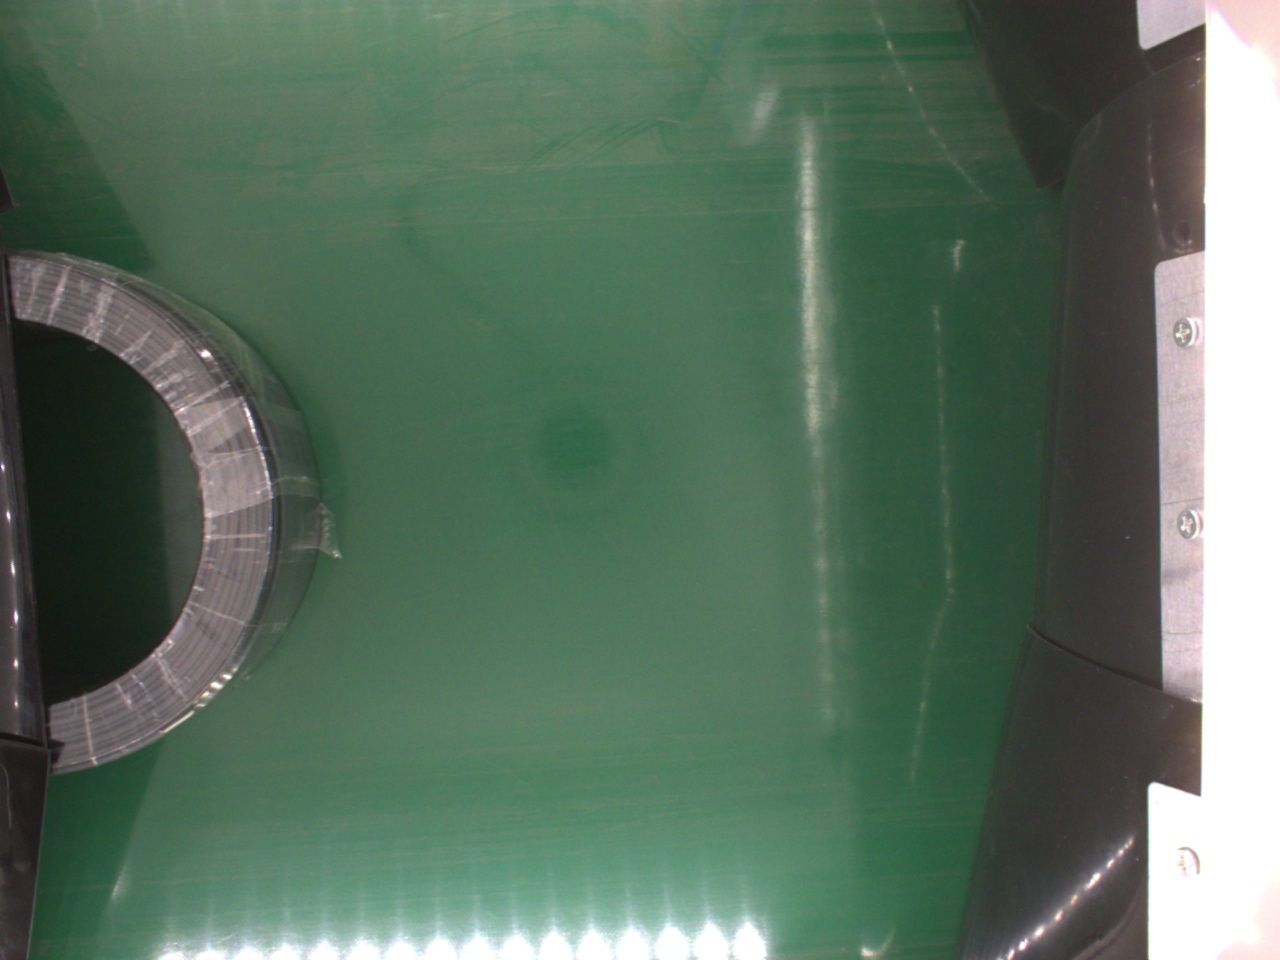black: (13, 255, 322, 772)
